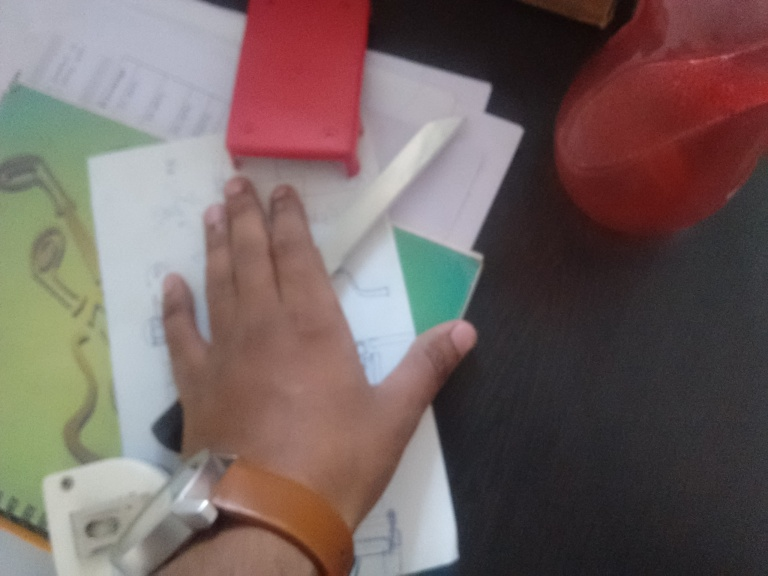knife: (344, 117, 467, 269)
